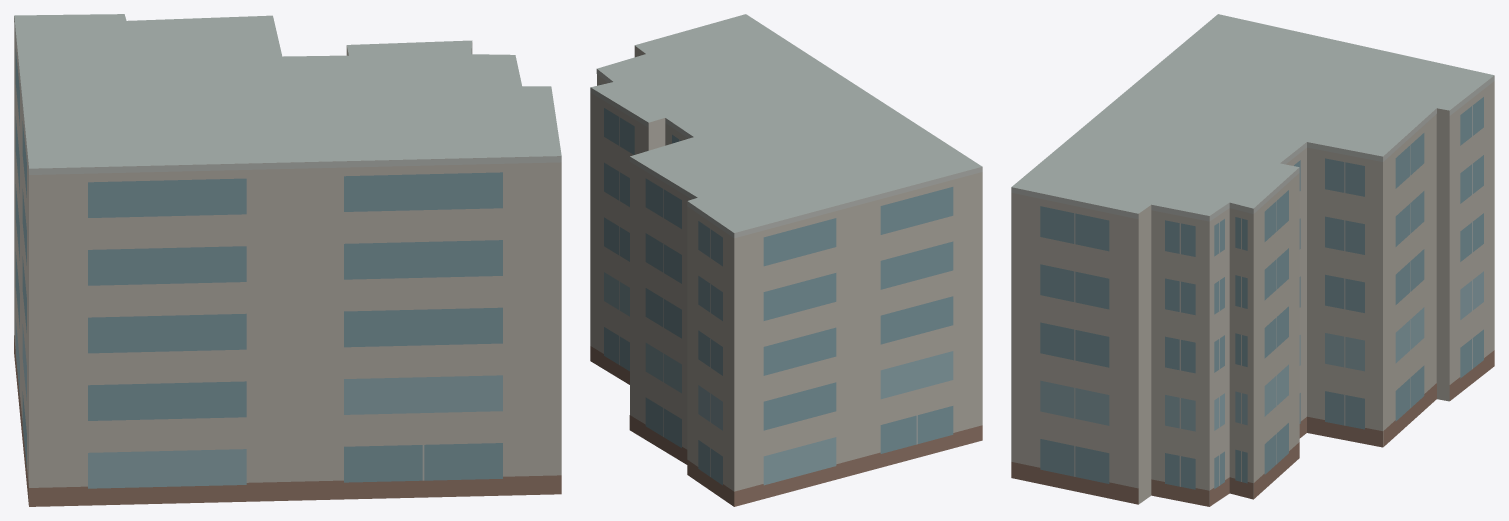
The model's file is survey-upis-32592605.glb.
3 renders of one model, left to right at view 1: azimuth 30°, elevation 25°; view 2: azimuth 150°, elevation 25°; view 3: azimuth 270°, elevation 25°, orthographic. The views are drawn at different scales.
Visible parts, largest first — view 1: survey-upis-32592605.tmp; view 2: survey-upis-32592605.tmp; view 3: survey-upis-32592605.tmp.
Boxes of the visible parts, x1=… form: survey-upis-32592605.tmp: x1=14, y1=14, x2=561, y2=506; survey-upis-32592605.tmp: x1=590, y1=14, x2=982, y2=506; survey-upis-32592605.tmp: x1=1011, y1=14, x2=1494, y2=506.
Size of the model in its own units: 19.08 by 12.8 by 19.28.
